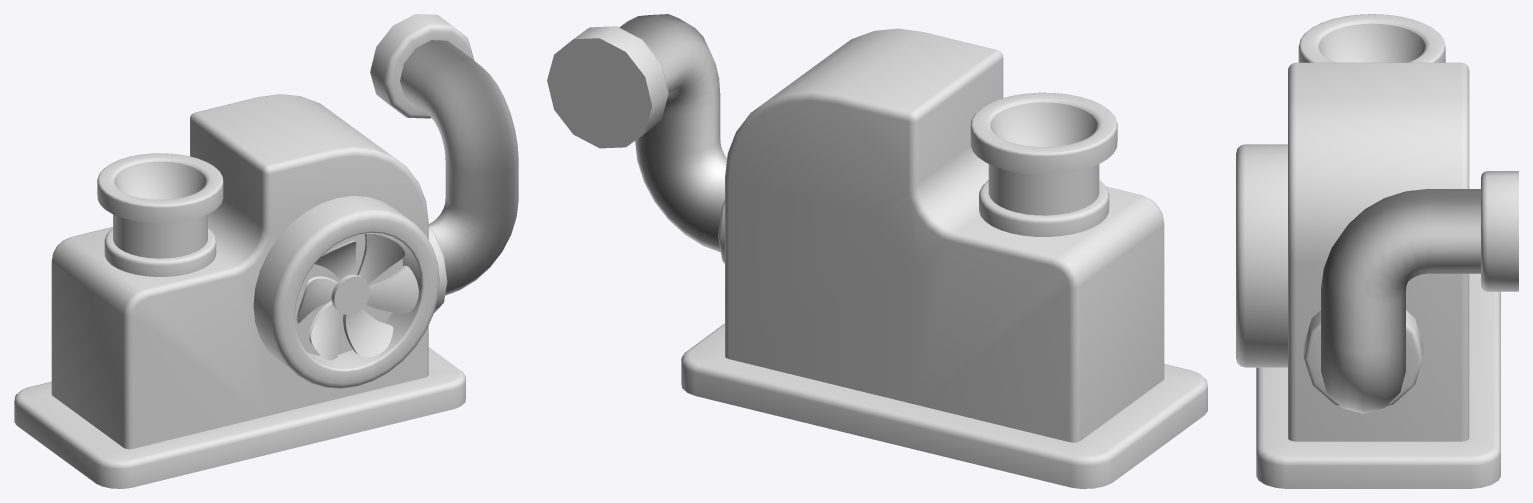
The model's file is model_machine_1.fbx.
3 views of the same model, side by side, from view 1: azimuth 30°, elevation 25°; view 2: azimuth 150°, elevation 25°; view 3: azimuth 270°, elevation 25° (orthographic). The views are drawn at different scales.
Parts seen in each view (by area): view 1: machine_1, fan; view 2: machine_1; view 3: machine_1.
Boxes of the visible parts, <box> form: machine_1: <box>14,14,518,488</box>; fan: <box>296,233,418,360</box>; machine_1: <box>547,14,1207,488</box>; machine_1: <box>1236,14,1518,488</box>.
Size of the model in its own units: 425 by 258 by 193.
Materials: 4 (1 with a texture image).
